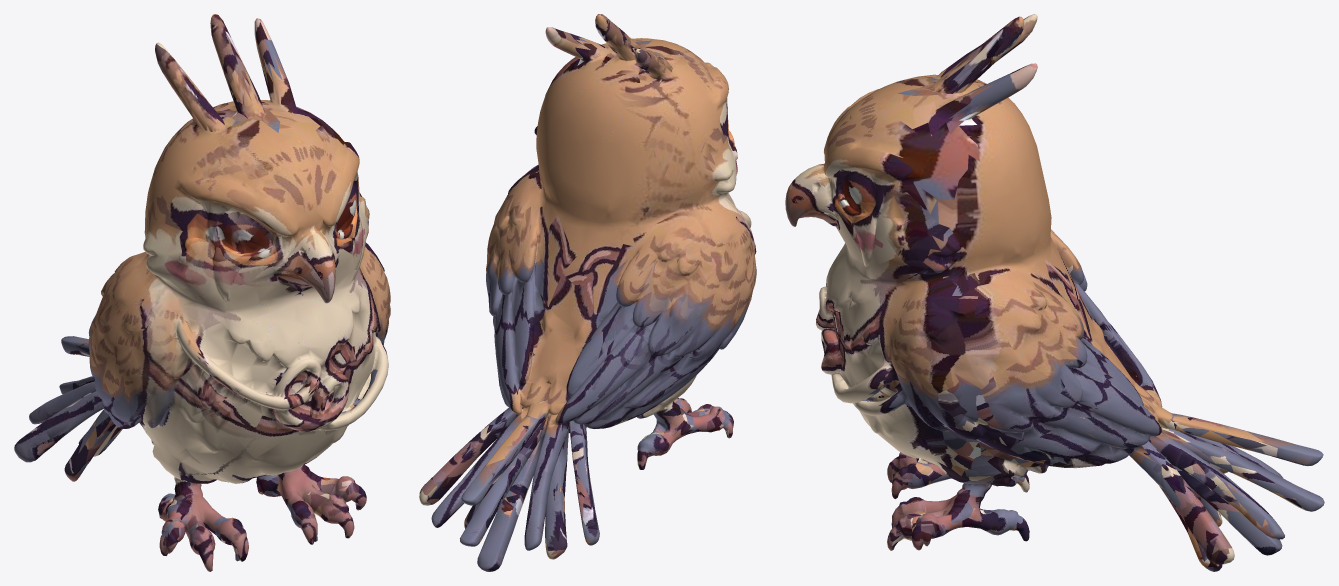
3 renders of one model, left to right at view 1: azimuth 30°, elevation 25°; view 2: azimuth 150°, elevation 25°; view 3: azimuth 270°, elevation 25°, orthographic. The views are drawn at different scales.
Visible parts, largest first — view 1: Mesh_0; view 2: Mesh_0; view 3: Mesh_0.
Boxes of the visible parts, x1,y1,x2,y2 form: Mesh_0: (14, 14, 390, 571); Mesh_0: (419, 14, 756, 571); Mesh_0: (785, 14, 1324, 571).
Size of the model in its own units: 0.9994 by 1.9 by 1.73.
1 material, 1 textured.
